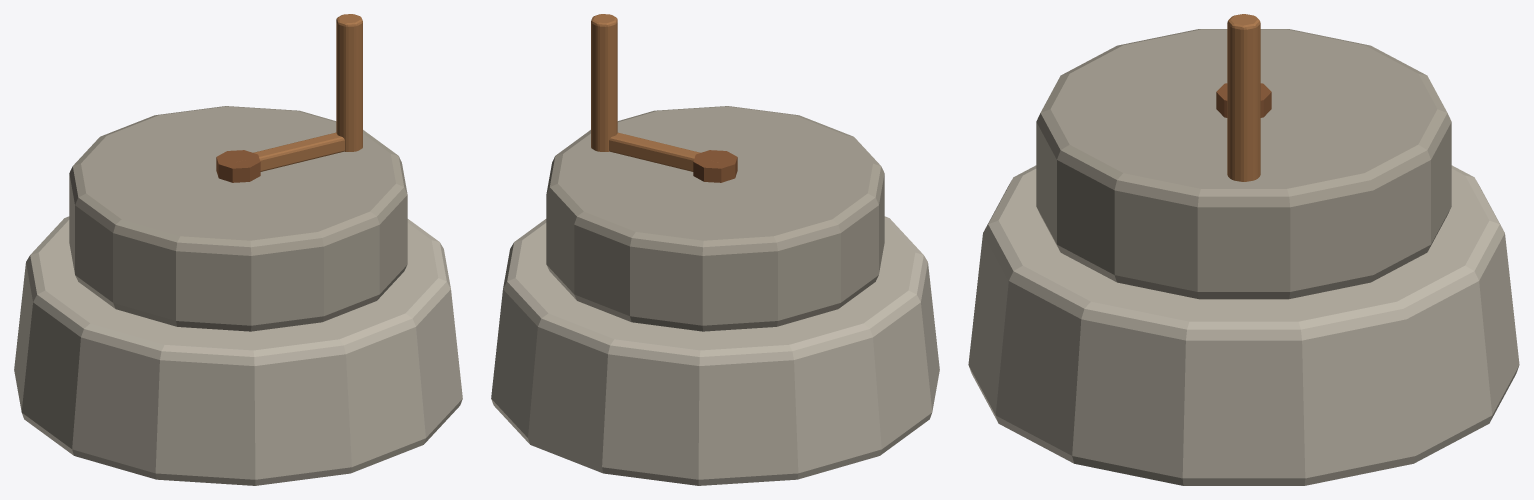
File: coi-xay-gao.glb
The picture shows the model from 3 angles, left to right: view 1: azimuth 30°, elevation 25°; view 2: azimuth 150°, elevation 25°; view 3: azimuth 270°, elevation 25°; orthographic projection. The views are drawn at different scales.
Parts seen in each view (by area): view 1: coi-xay-gao-0, coi-xay-gao-1, coi-xay-gao-3, coi-xay-gao-4, coi-xay-gao-2; view 2: coi-xay-gao-0, coi-xay-gao-1, coi-xay-gao-3, coi-xay-gao-4, coi-xay-gao-2; view 3: coi-xay-gao-0, coi-xay-gao-1, coi-xay-gao-3, coi-xay-gao-2.
Part boxes in pixels (x1,y1,x2,y2): coi-xay-gao-0: (14, 216, 462, 485); coi-xay-gao-1: (69, 106, 407, 331); coi-xay-gao-3: (336, 14, 362, 151); coi-xay-gao-4: (253, 132, 344, 171); coi-xay-gao-2: (216, 150, 260, 182); coi-xay-gao-0: (491, 216, 939, 485); coi-xay-gao-1: (546, 106, 884, 331); coi-xay-gao-3: (591, 14, 617, 151); coi-xay-gao-4: (609, 132, 717, 171); coi-xay-gao-2: (693, 150, 737, 182); coi-xay-gao-0: (968, 165, 1519, 485); coi-xay-gao-1: (1036, 29, 1451, 299); coi-xay-gao-3: (1227, 14, 1260, 181); coi-xay-gao-2: (1216, 83, 1271, 117).
Size of the model in its own units: 1.55 by 1.35 by 1.59.
